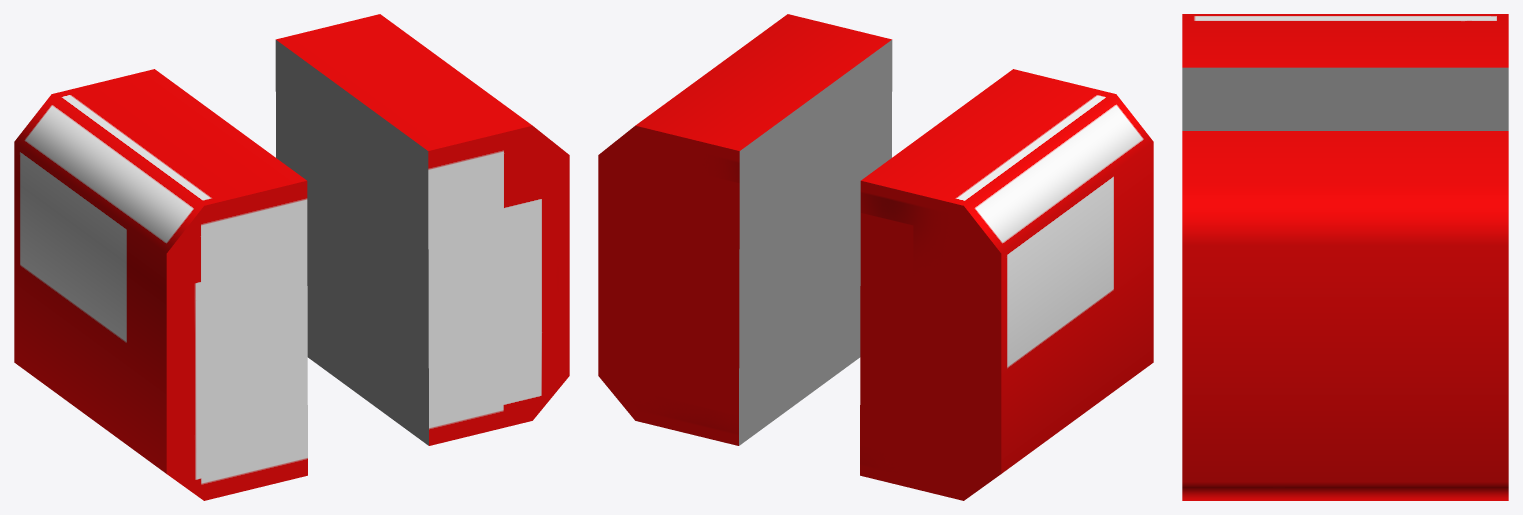
The model's file is gold_cube_halved_uv.fbx.
3 renders of one model, left to right at view 1: azimuth 30°, elevation 25°; view 2: azimuth 150°, elevation 25°; view 3: azimuth 270°, elevation 25°, orthographic. The views are drawn at different scales.
Parts seen in each view (by area): view 1: polySurface1, polySurface2; view 2: polySurface1, polySurface2; view 3: polySurface2, polySurface1.
Part boxes in pixels (bbox=[...]): polySurface1: bbox=[14, 69, 307, 500]; polySurface2: bbox=[275, 14, 569, 445]; polySurface1: bbox=[860, 69, 1153, 500]; polySurface2: bbox=[598, 14, 892, 445]; polySurface2: bbox=[1182, 131, 1508, 500]; polySurface1: bbox=[1182, 14, 1508, 130].
Size of the model in its own units: 13.72 by 9.6 by 8.99.
2 materials, 1 textured.
